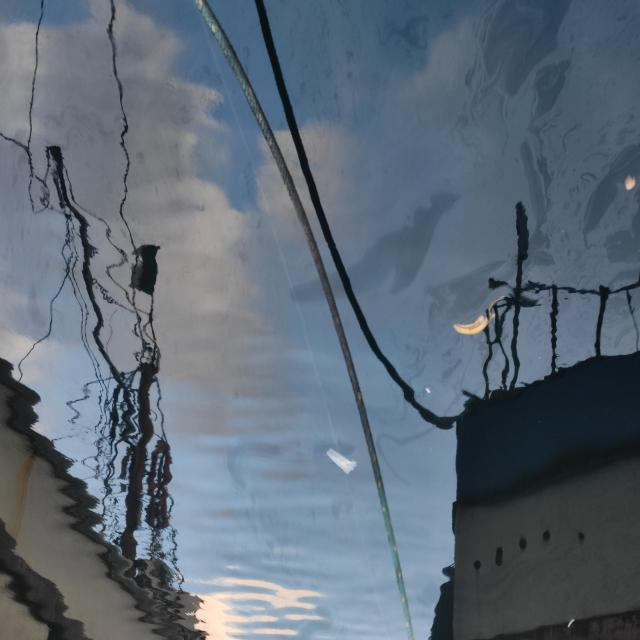Plastic bag: (326, 446, 358, 476)
